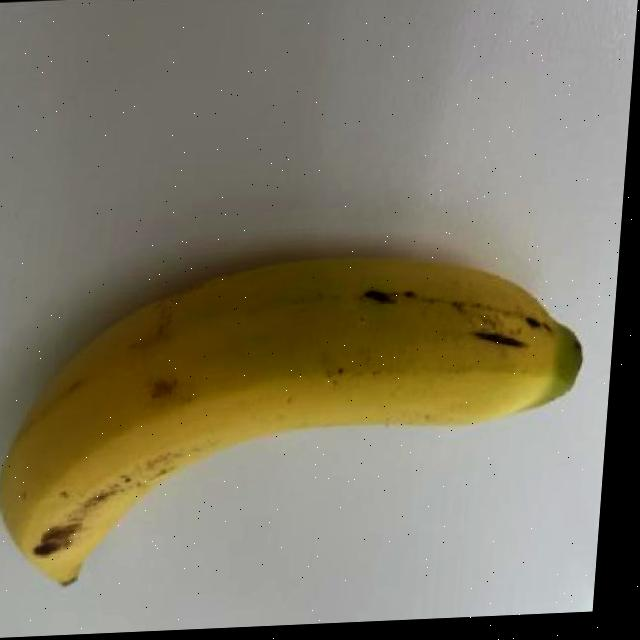banana: (0, 232, 601, 599)
